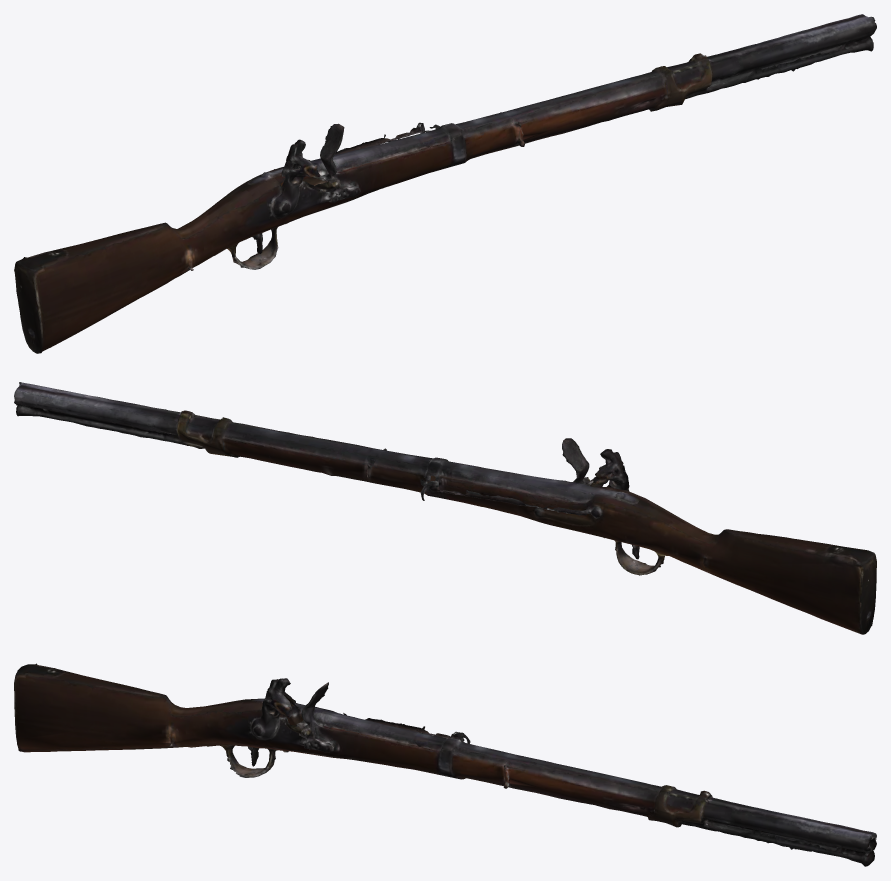
The model's file is musket.glb.
3 views of the same model, one above another, from view 1: azimuth 30°, elevation 25°; view 2: azimuth 150°, elevation 25°; view 3: azimuth 330°, elevation 25° (orthographic). The views are drawn at different scales.
Parts seen in each view (by area): view 1: Object_2; view 2: Object_2; view 3: Object_2.
Part boxes in pixels (bbox=[...]): Object_2: bbox=[14, 14, 876, 353]; Object_2: bbox=[14, 382, 876, 634]; Object_2: bbox=[14, 663, 876, 866].
Bounding box in the file's own units: 1147 × 175 × 135.
1 material, 1 textured.
